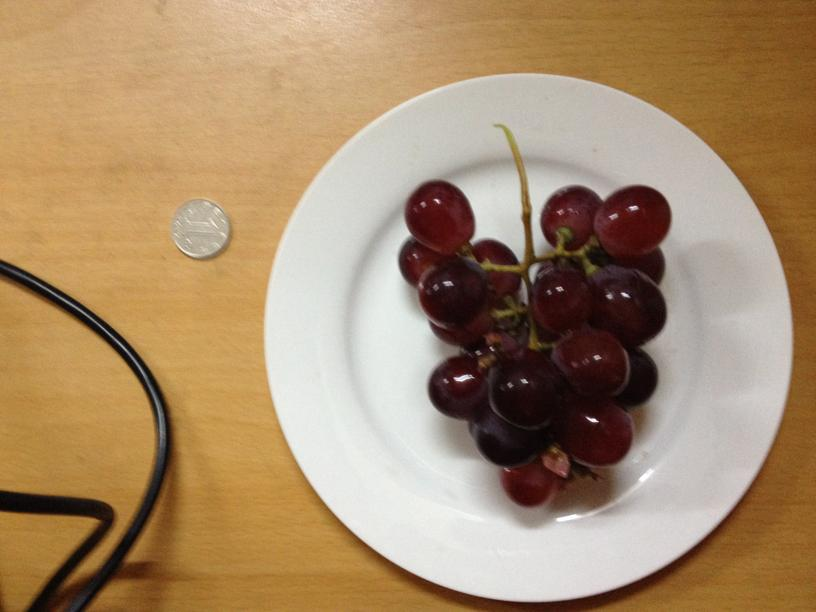coin: (172, 198, 228, 257)
grape: (392, 174, 673, 505)
